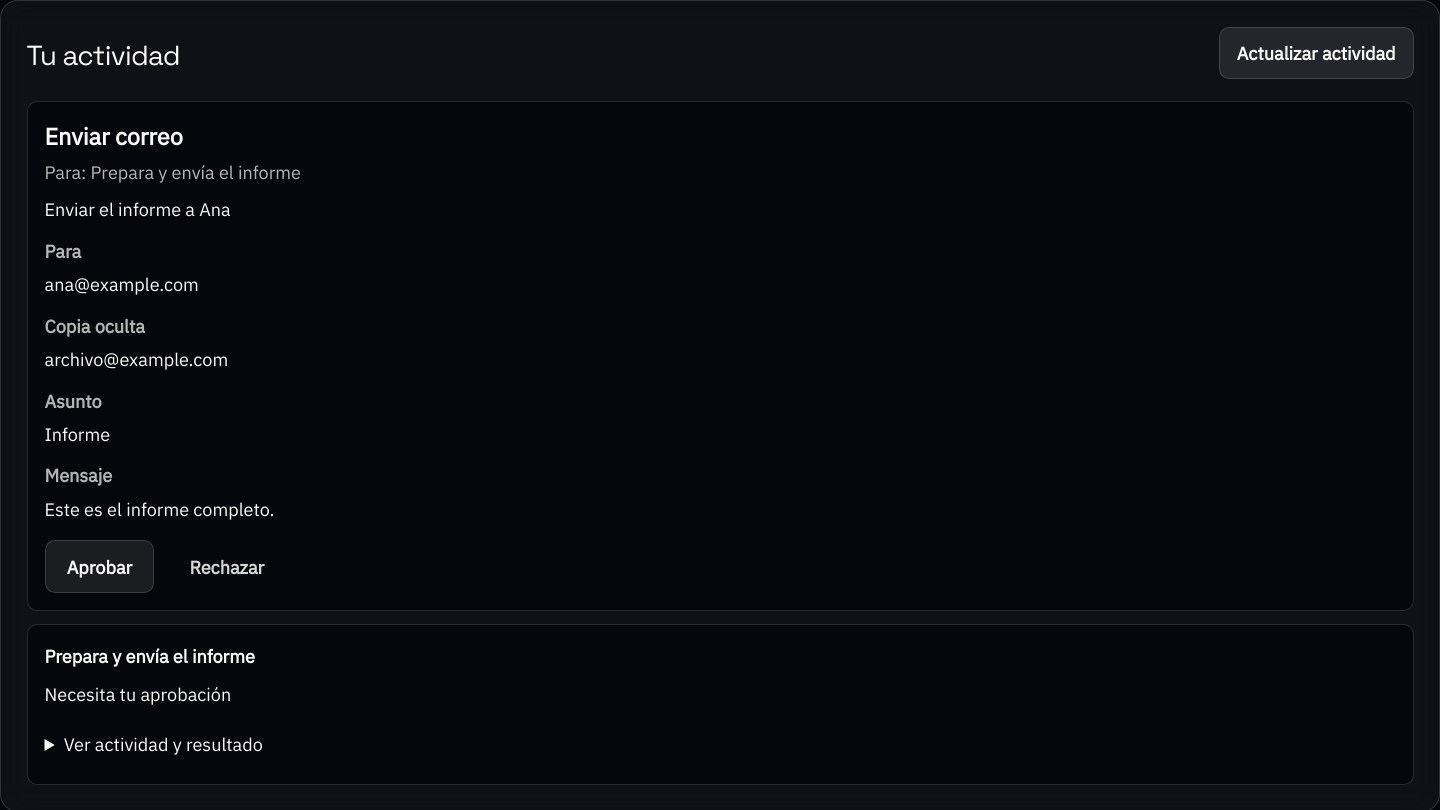
Scenario: Actividad en Inicio › recoge una decisión hecha fuera del panel sin afirmar que terminó
This screenshot has width=1440, height=810.
Expected: the button with aria-label "Aprobar: Enviar correo" is shown, top-left (44, 540), bottom-right (154, 594)
Click the button "Actualizar actividad" at x=1316, y=53, box top-left (1219, 26), bottom-right (1414, 80)
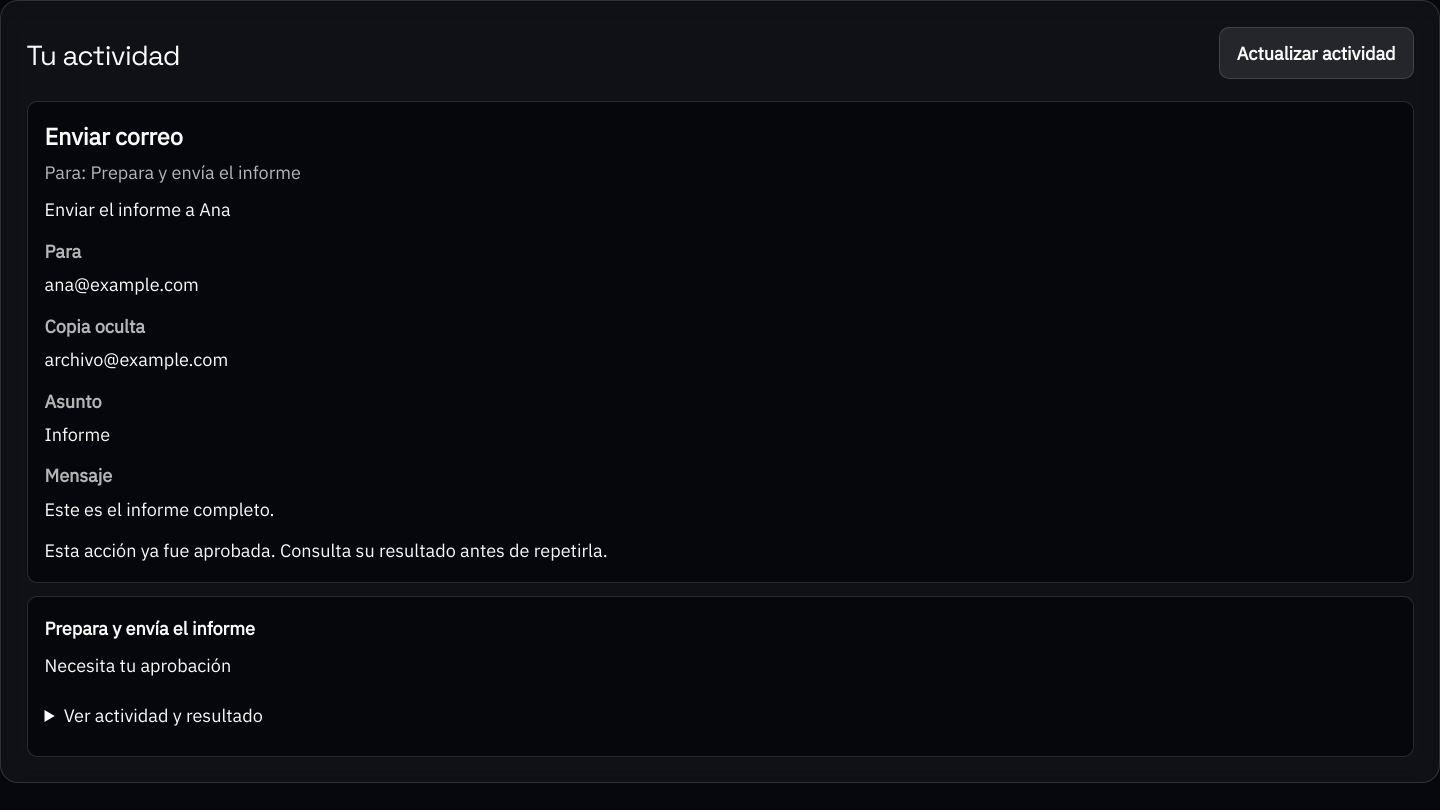
Expected: the text "Esta acción ya fue aprobada. Consulta su resultado antes de repetirla." is shown, top-left (44, 538), bottom-right (608, 562)
